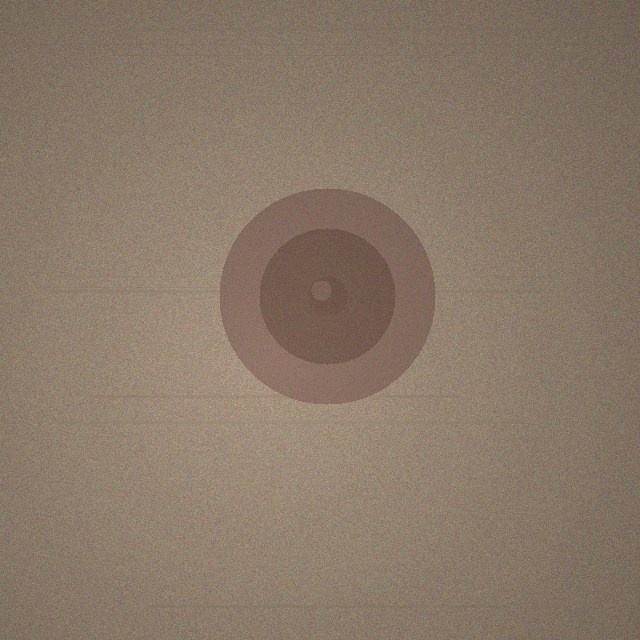good: (219, 188, 435, 404)
